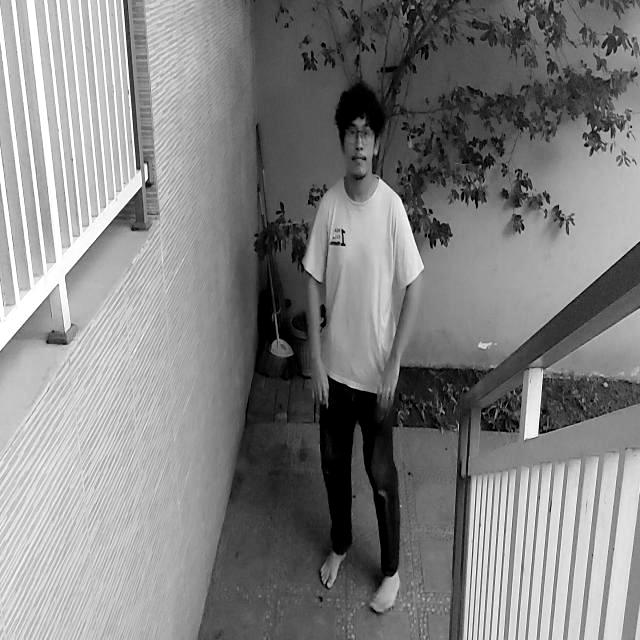No-Boots: (315, 542, 352, 590), (368, 569, 404, 617)
No-Vest: (312, 178, 399, 396)
